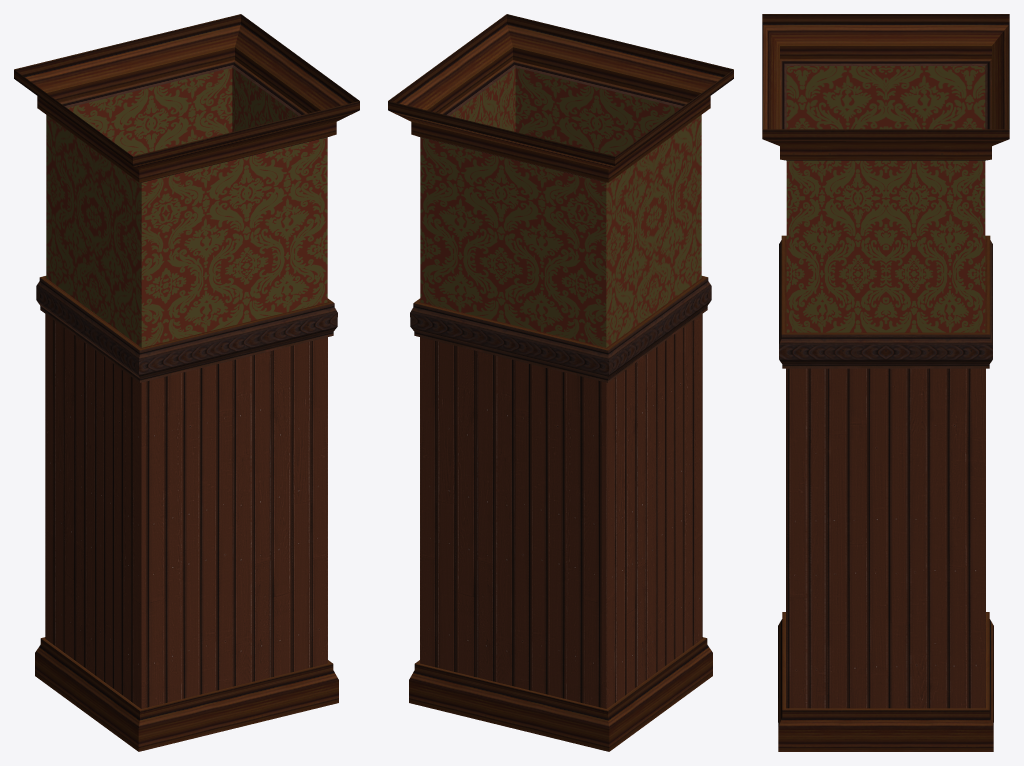
Rendered from Wall2ShortCube.fbx.
The picture shows the model from 3 angles, left to right: view 1: azimuth 30°, elevation 25°; view 2: azimuth 150°, elevation 25°; view 3: azimuth 270°, elevation 25°; orthographic projection. The views are drawn at different scales.
Visible parts, largest first — view 1: Wall Outie_Large.003; view 2: Wall Outie_Large.003; view 3: Wall Outie_Large.003.
Part boxes in pixels (box(x1,y1,x2,y2)): Wall Outie_Large.003: box(14, 14, 359, 751); Wall Outie_Large.003: box(388, 14, 733, 751); Wall Outie_Large.003: box(762, 14, 1009, 751).
Size of the model in its own units: 111 by 281 by 100.
